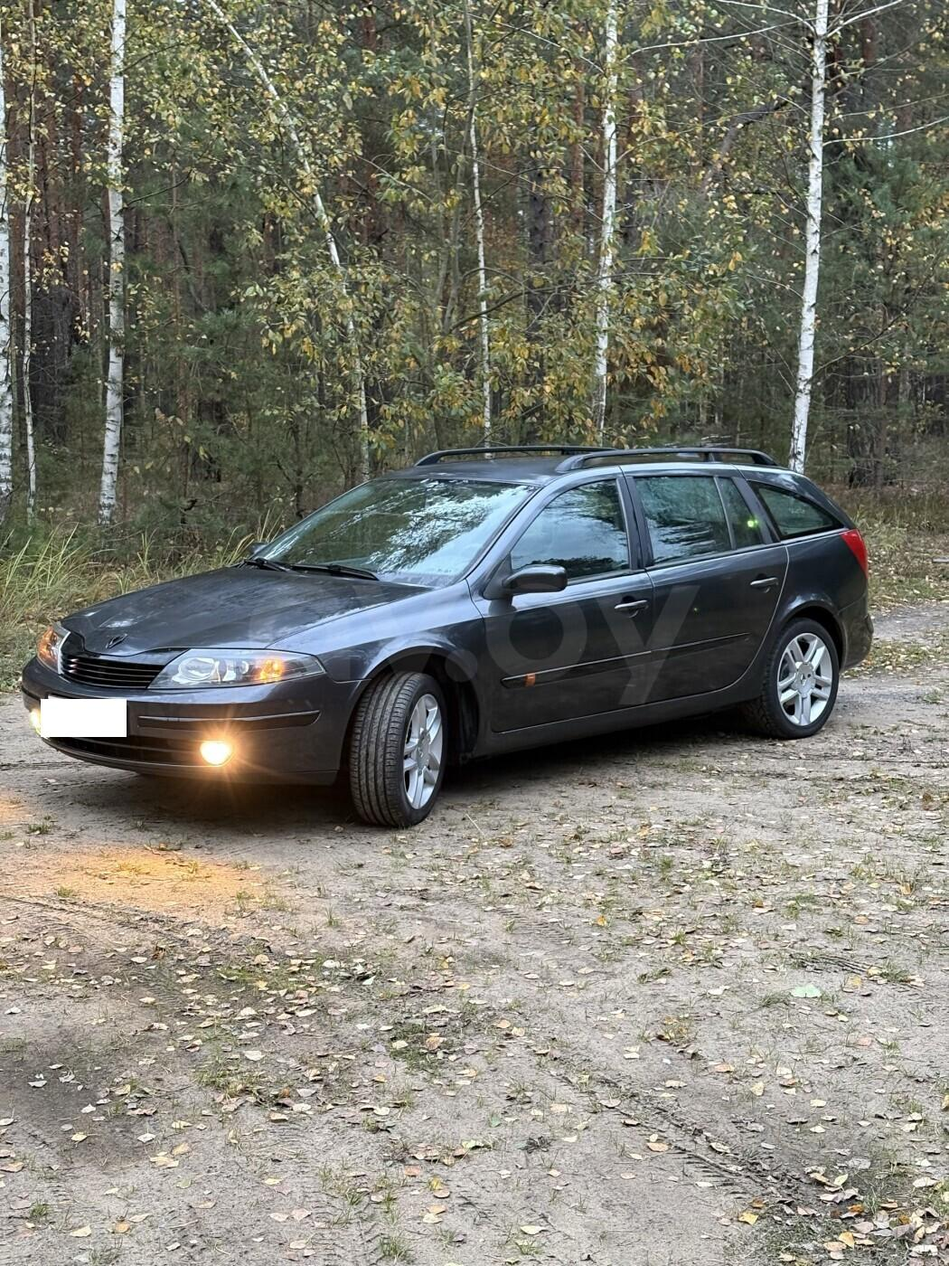Laguna_2001-2005: (23, 446, 873, 826)
